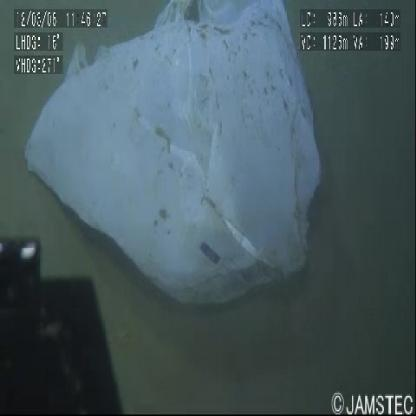Rov: (1, 220, 124, 416)
Rác: (20, 3, 328, 334)
